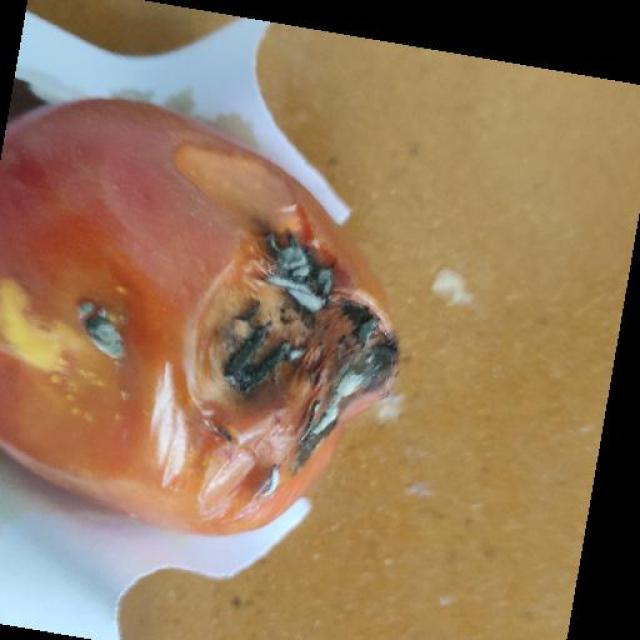Stale_tomato: (0, 120, 412, 507)
